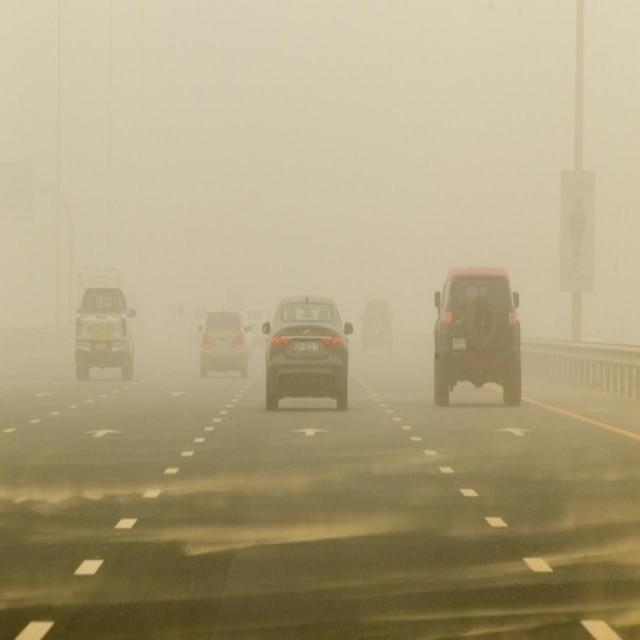Car: (431, 266, 525, 412), (262, 292, 354, 419), (72, 286, 134, 383), (197, 306, 253, 378), (364, 300, 398, 355)
